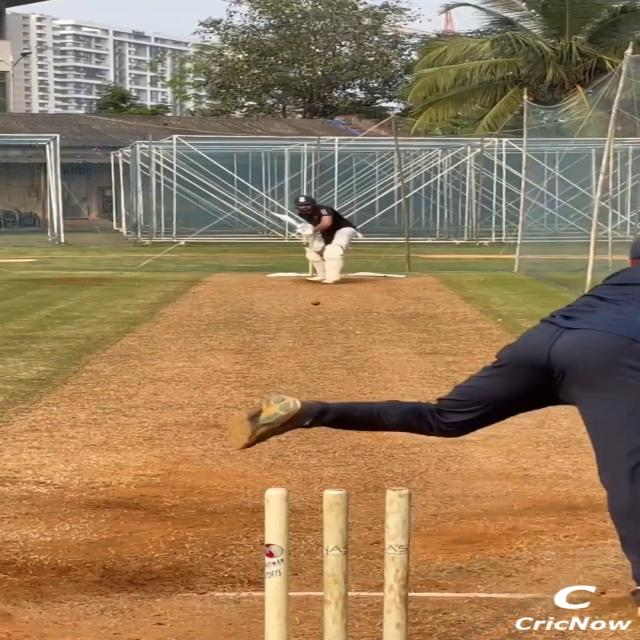ball: (311, 300, 320, 306)
stump: (260, 486, 410, 640)
